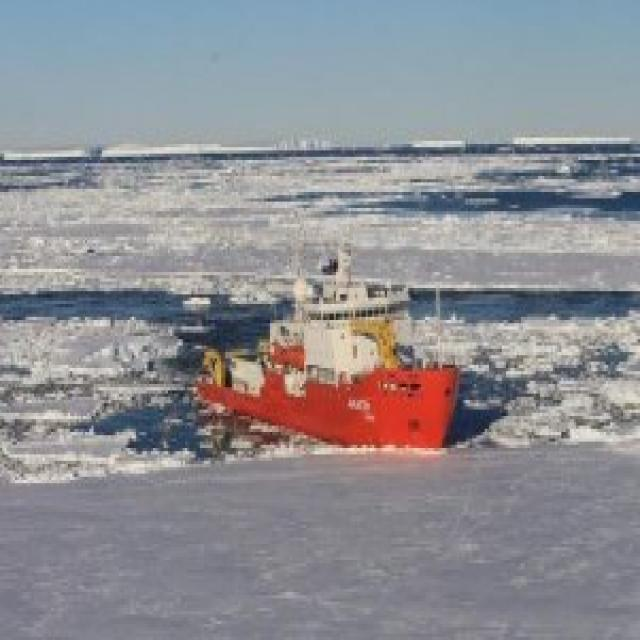Ship: (186, 286, 480, 469)
